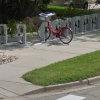Bicycle: (36, 11, 74, 45)
